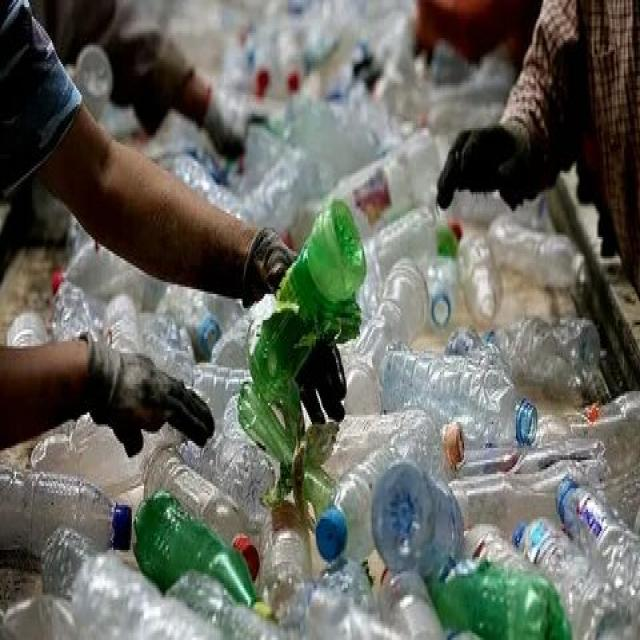blue: (376, 343, 537, 457), (369, 463, 465, 575)
green: (246, 196, 366, 405), (128, 490, 256, 626), (424, 559, 564, 640)
